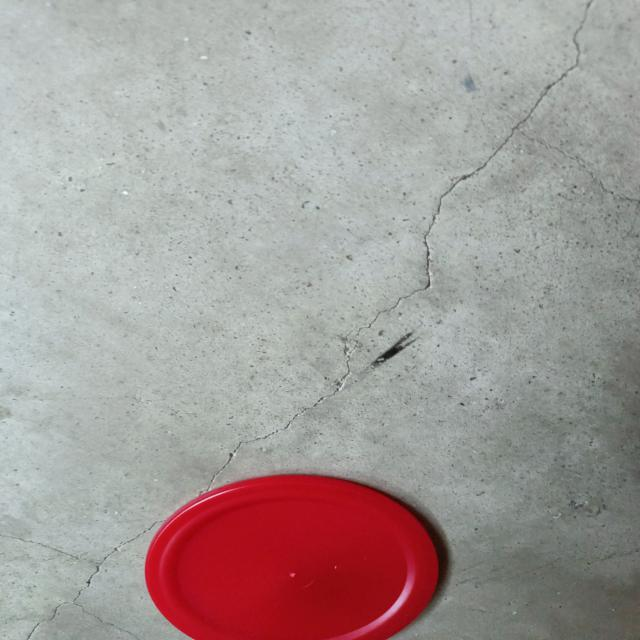chip: (142, 471, 438, 640)
